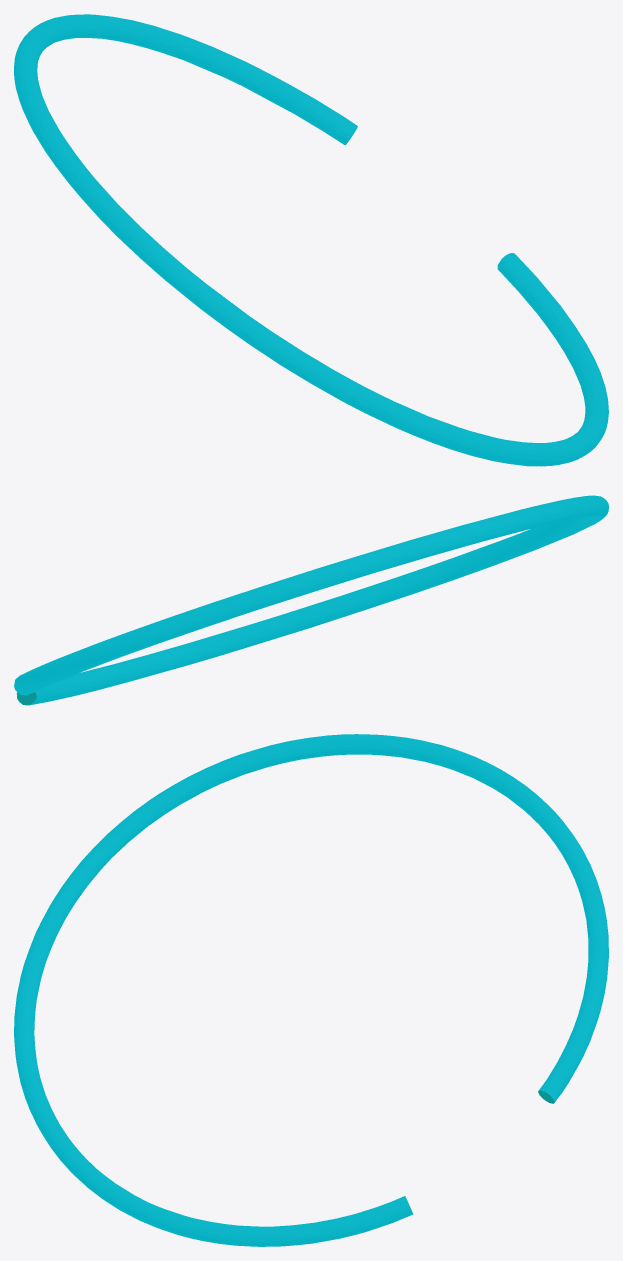
The model's file is arc2.glb.
3 views of the same model, one above another, from view 1: azimuth 30°, elevation 25°; view 2: azimuth 150°, elevation 25°; view 3: azimuth 270°, elevation 25° (orthographic). The views are drawn at different scales.
Visible parts, largest first — view 1: Asset 52; view 2: Asset 52; view 3: Asset 52.
Boxes of the visible parts, x1,y1,x2,y2 form: Asset 52: (14, 14, 608, 466); Asset 52: (14, 495, 608, 705); Asset 52: (14, 734, 608, 1246).
Size of the model in its own units: 5.07 by 3.23 by 5.62.
